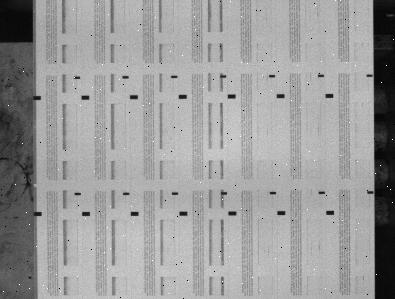backgroundclutter: (33, 184, 37, 188), (28, 277, 32, 280)
qblock: (81, 95, 90, 100), (34, 212, 42, 217), (130, 95, 138, 100), (277, 94, 285, 99), (228, 94, 236, 99), (82, 212, 90, 217), (131, 212, 139, 217), (278, 211, 286, 216), (33, 96, 41, 100), (179, 95, 187, 99), (326, 94, 334, 98), (327, 211, 335, 215), (229, 212, 237, 216), (180, 212, 188, 216)
smallqblock: (171, 75, 178, 79), (221, 192, 228, 196), (123, 193, 130, 196), (172, 192, 179, 195), (319, 192, 326, 195), (74, 193, 81, 196), (270, 192, 277, 195), (122, 76, 129, 79), (269, 75, 276, 78), (318, 74, 325, 77), (367, 74, 374, 77), (220, 75, 227, 78), (74, 76, 80, 79), (368, 191, 374, 194)
